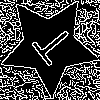T: (24, 20, 77, 73)
